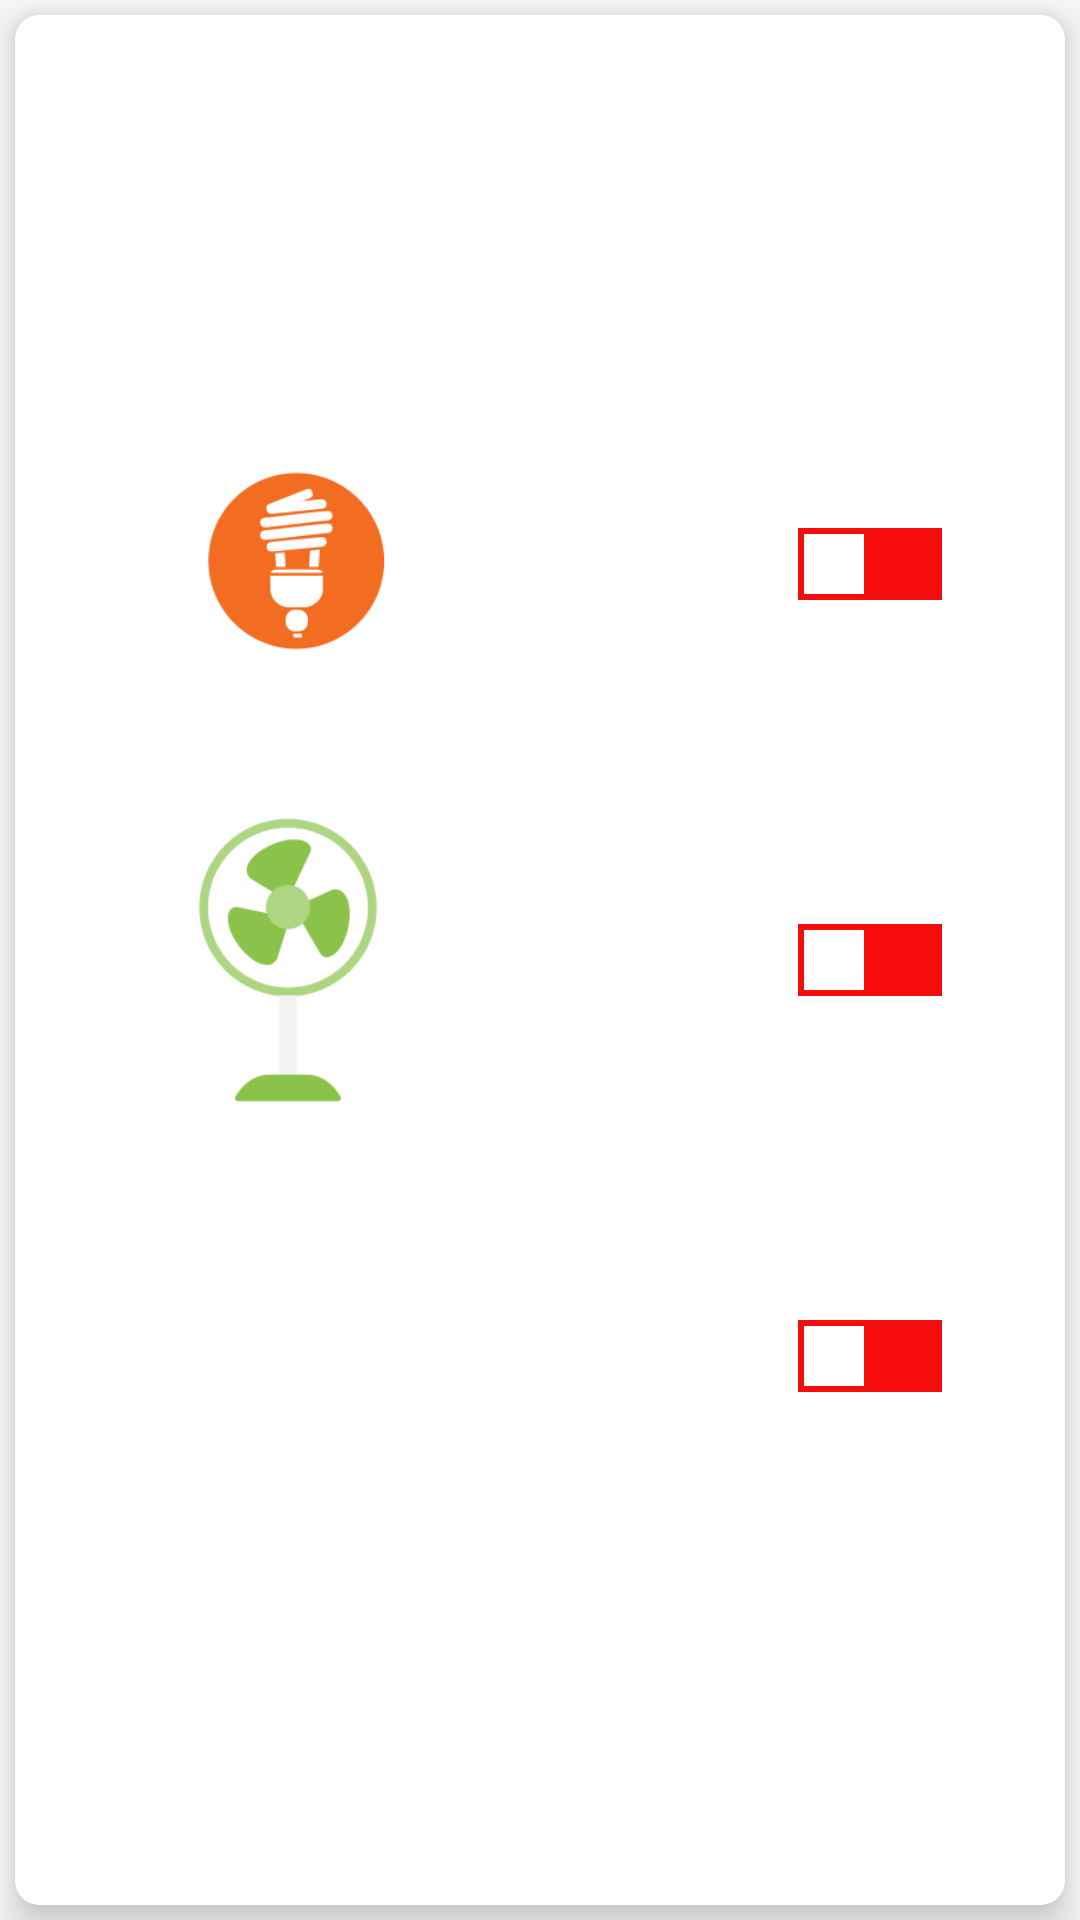

Named icons in this screenshot (1080 x 1920) and their bounding boxes, (x1, y1, x2, y2):
bulb: (208, 472, 385, 650)
cooling: (199, 818, 377, 1102)
